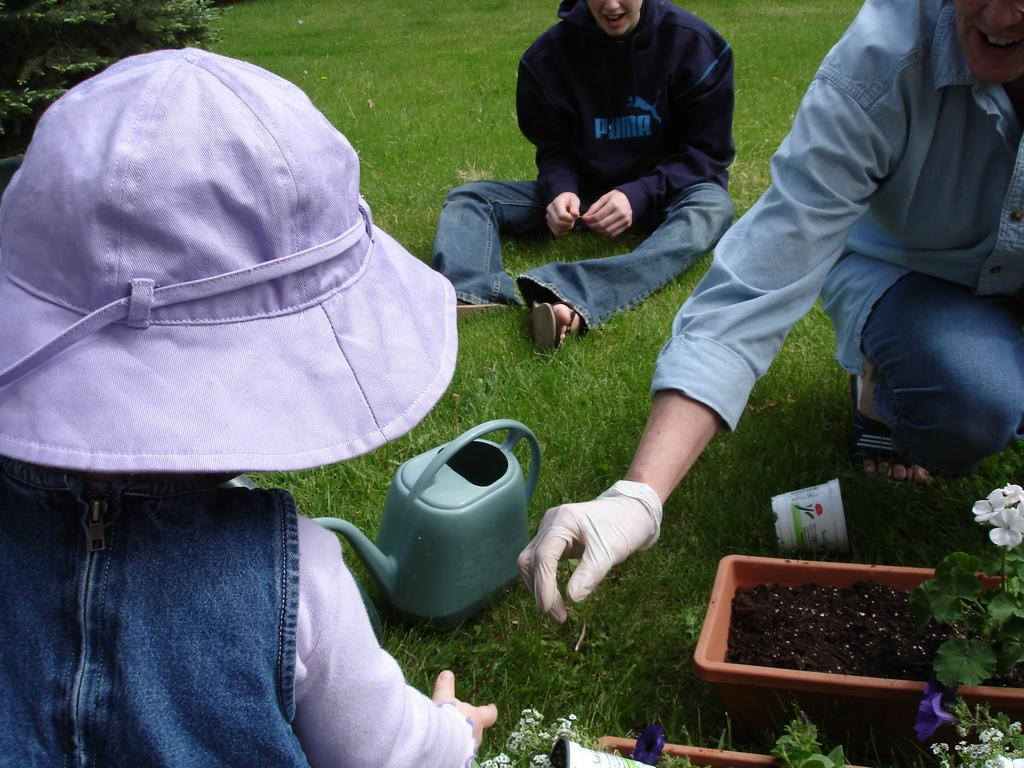Hat: (0, 47, 458, 472)
